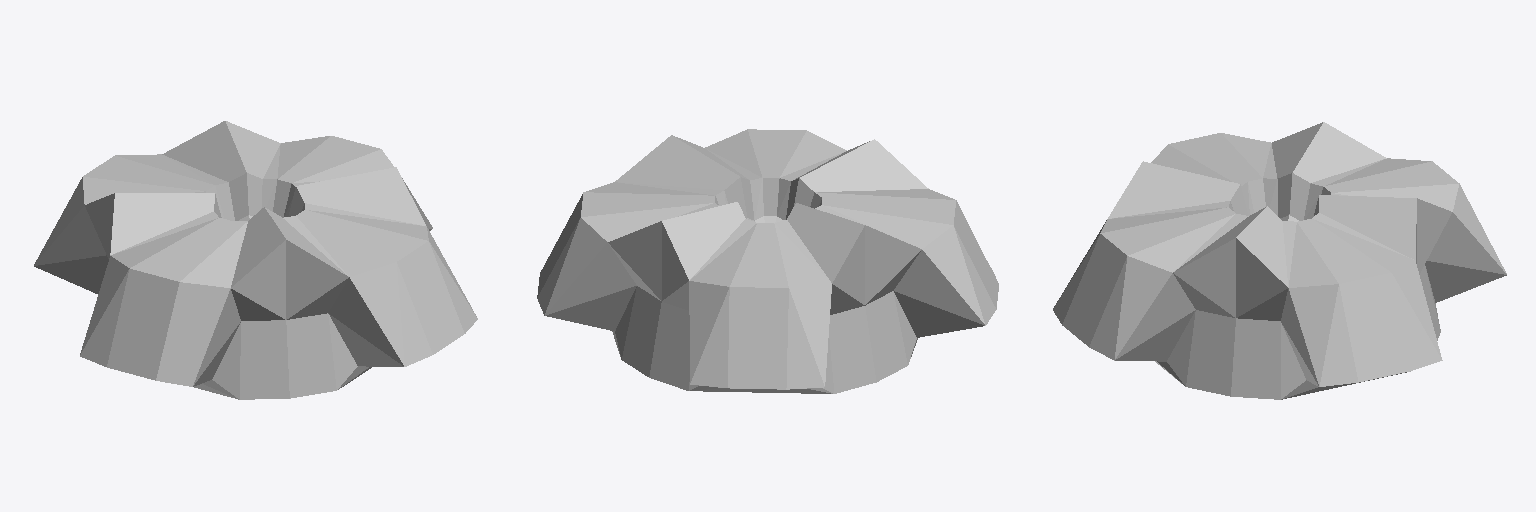
Rendered from AugmentTop.obj.
The picture shows the model from 3 angles: view 1: azimuth 30°, elevation 25°; view 2: azimuth 150°, elevation 25°; view 3: azimuth 270°, elevation 25°; orthographic projection.
Size of the model in its own units: 13.44 by 4.96 by 13.43.